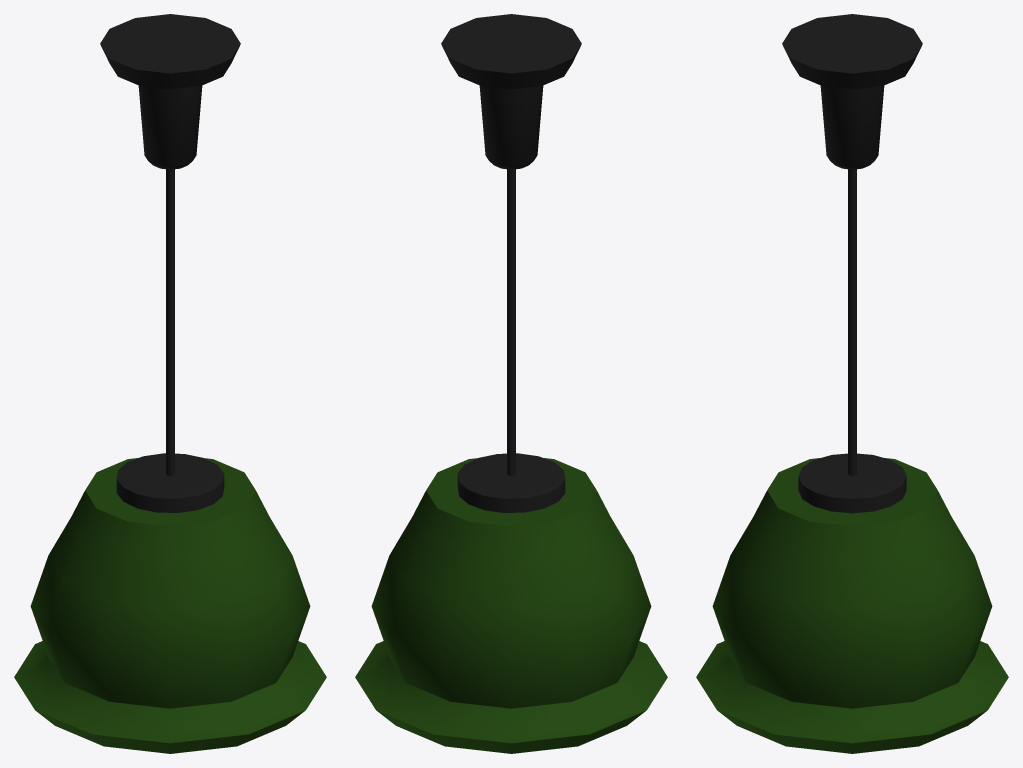
File: Lamp_type1.FBX
3 renders of one model, left to right at view 1: azimuth 30°, elevation 25°; view 2: azimuth 150°, elevation 25°; view 3: azimuth 270°, elevation 25°, orthographic.
Parts seen in each view (by area): view 1: Lamp_Lustra_type1_01; view 2: Lamp_Lustra_type1_01; view 3: Lamp_Lustra_type1_01.
Boxes of the visible parts, bbox=[...] form: Lamp_Lustra_type1_01: bbox=[14, 14, 326, 753]; Lamp_Lustra_type1_01: bbox=[355, 14, 667, 753]; Lamp_Lustra_type1_01: bbox=[696, 14, 1008, 753].
Bounding box in the file's own units: 18.94 × 18.94 × 43.66.
